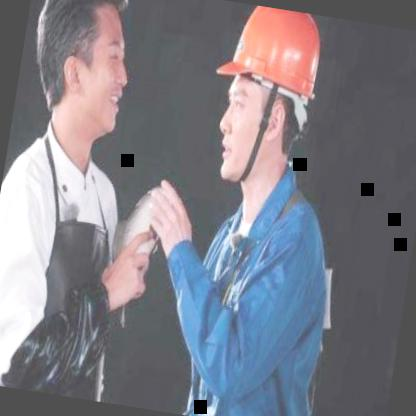head: (9, 0, 159, 157)
helmet: (196, 1, 330, 198)
